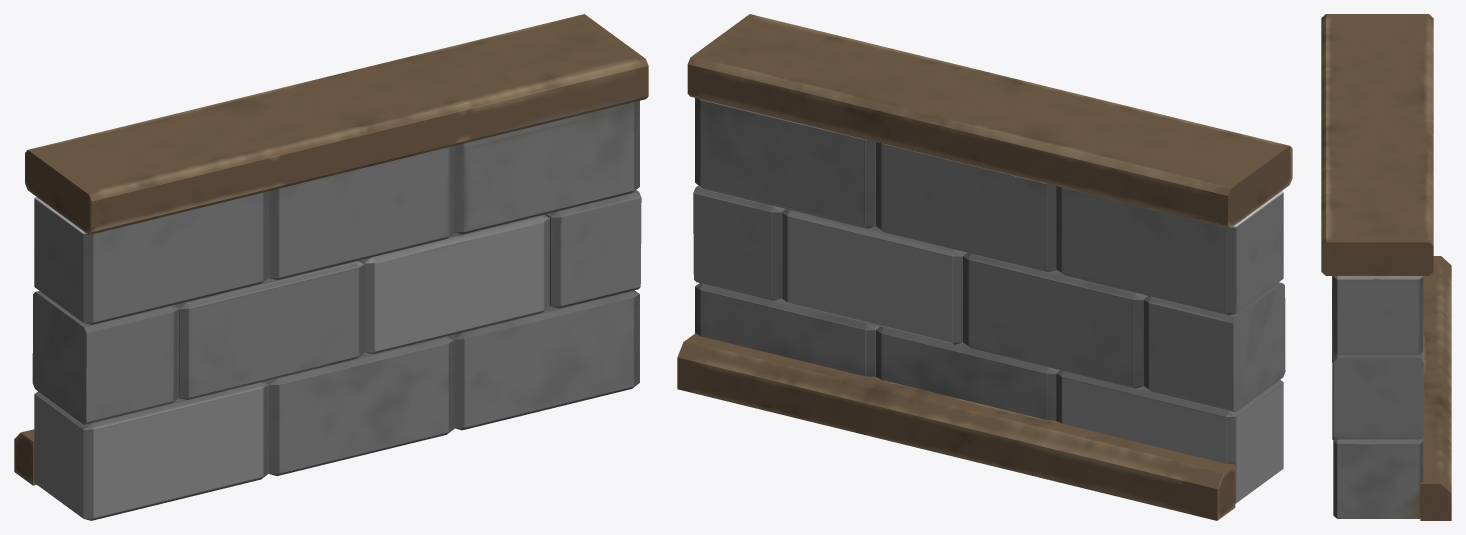
File: house_collection_1.fbx
The picture shows the model from 3 angles, left to right: view 1: azimuth 30°, elevation 25°; view 2: azimuth 150°, elevation 25°; view 3: azimuth 270°, elevation 25°; orthographic projection. The views are drawn at different scales.
Parts seen in each view (by area): view 1: house_collection_1; view 2: house_collection_1; view 3: house_collection_1.
Part boxes in pixels (x1,y1,x2,y2): house_collection_1: (14, 14, 648, 520); house_collection_1: (677, 14, 1292, 520); house_collection_1: (1321, 14, 1451, 520).
Bounding box in the file's own units: 477 × 272 × 115.
